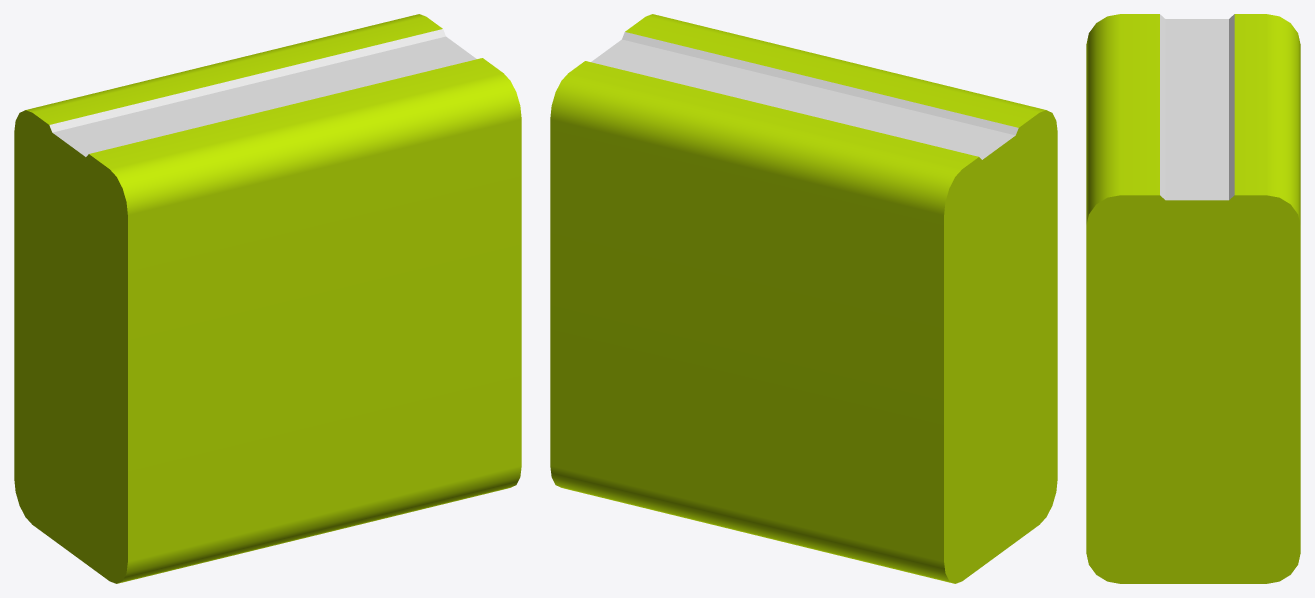
File: loopdown_block.fbx
3 renders of one model, left to right at view 1: azimuth 30°, elevation 25°; view 2: azimuth 150°, elevation 25°; view 3: azimuth 270°, elevation 25°, orthographic. The views are drawn at different scales.
Parts seen in each view (by area): view 1: pCube64; view 2: pCube64; view 3: pCube64.
Boxes of the visible parts, x1,y1,x2,y2 form: pCube64: (14, 14, 521, 583); pCube64: (550, 14, 1057, 583); pCube64: (1086, 14, 1300, 583).
Size of the model in its own units: 0.01 by 0.01 by 0.005.
